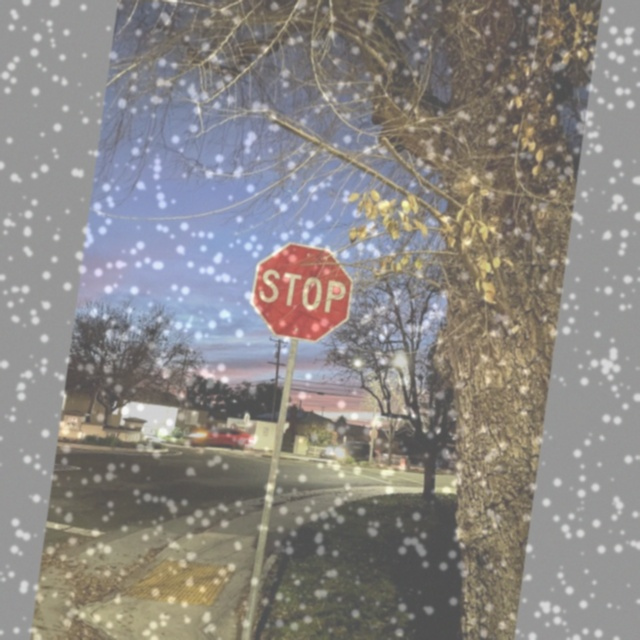Stop: (245, 239, 359, 347)
